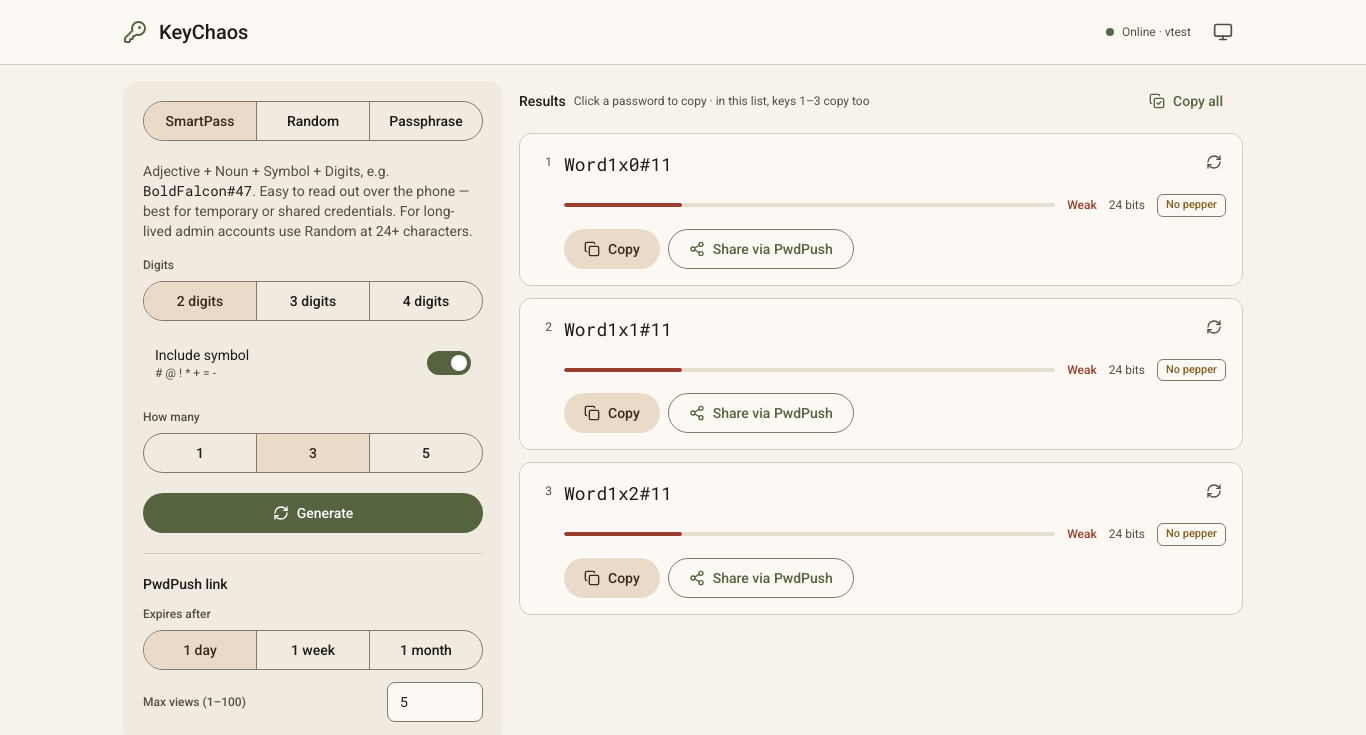
App — PwdPush links are never lost or mismatched › a push failing while options are stale does not replace the list
The image size is (1366, 735).
Expected: the number of list items is 3, [519,133,1243,286]; [519,298,1243,450]; [519,462,1243,614]
Click the radio button labelled "Random".
click(312, 121)  # box [256,102,369,140]
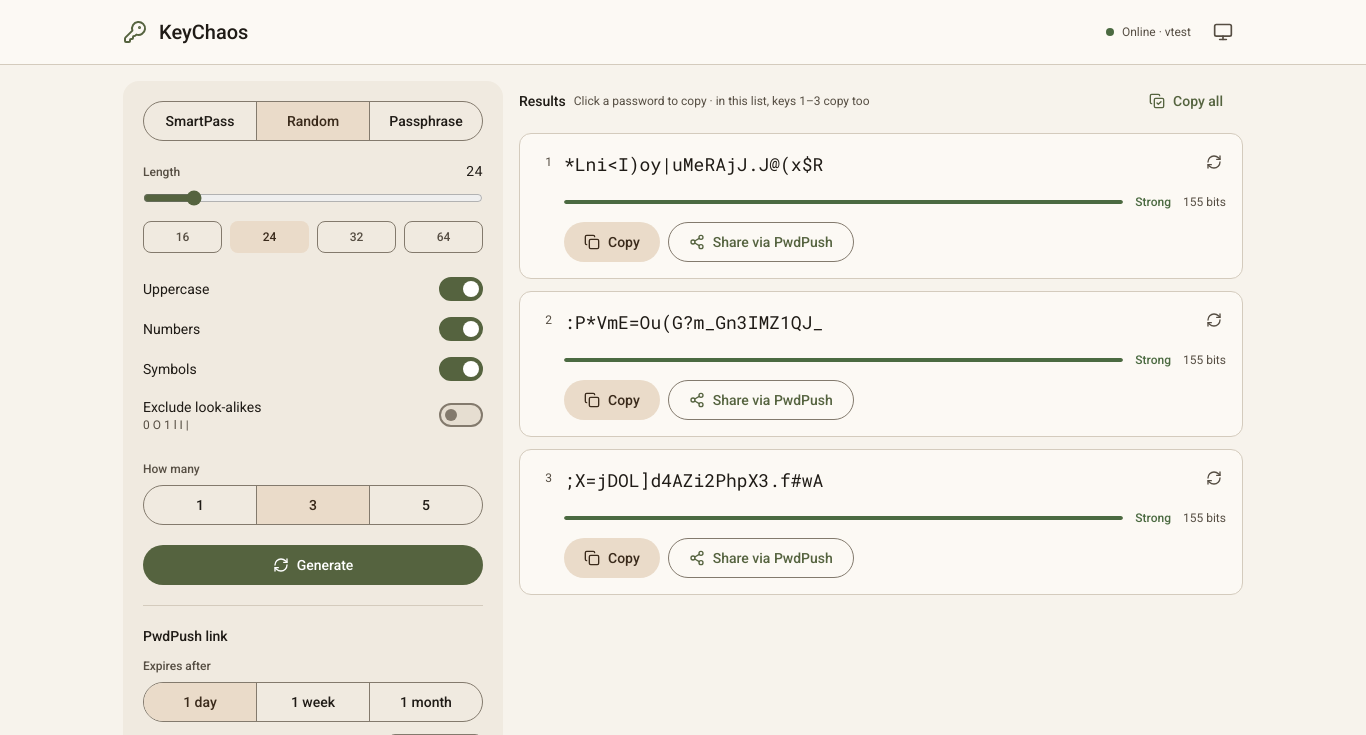
Click the button with aria-label "Share via PwdPush, password 1".
click(761, 242)  # box [668,222,854,262]
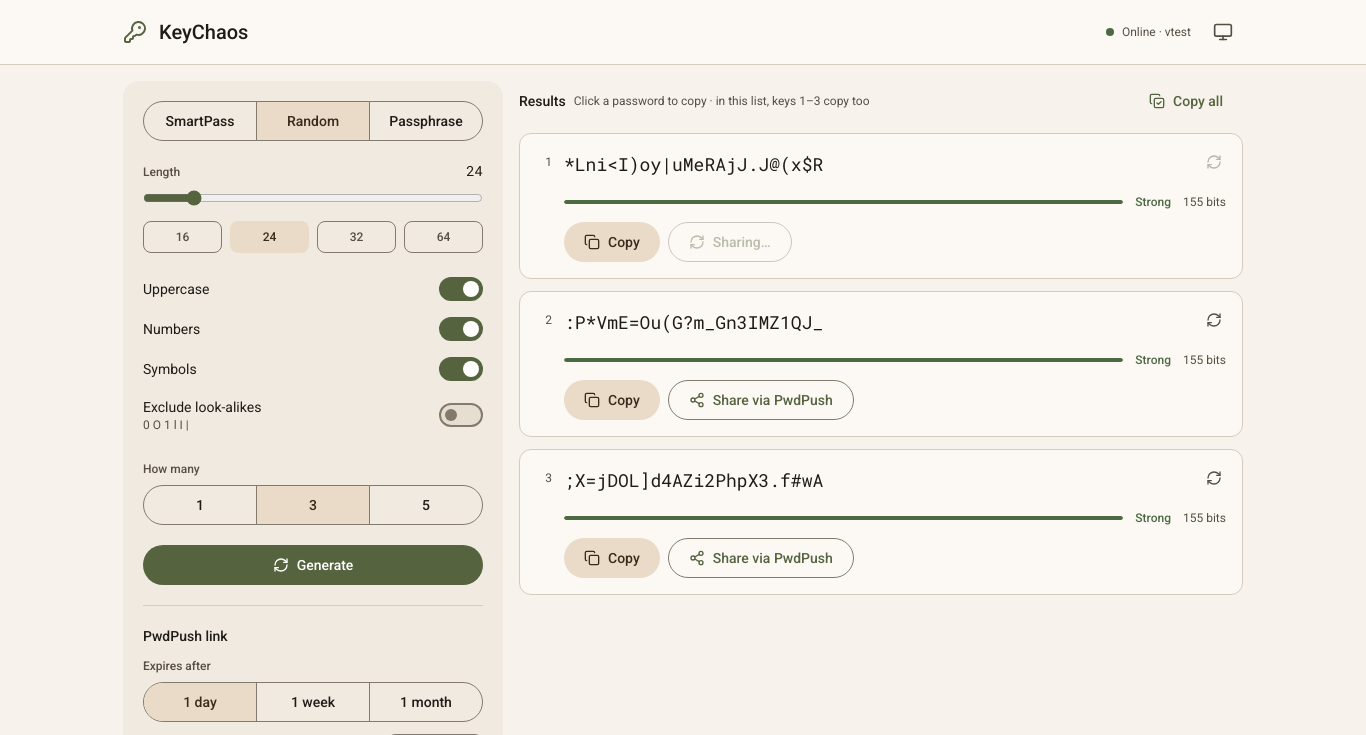
Set the slider labelled "Length" to "40" at [237, 198], box [143,190,483,206]
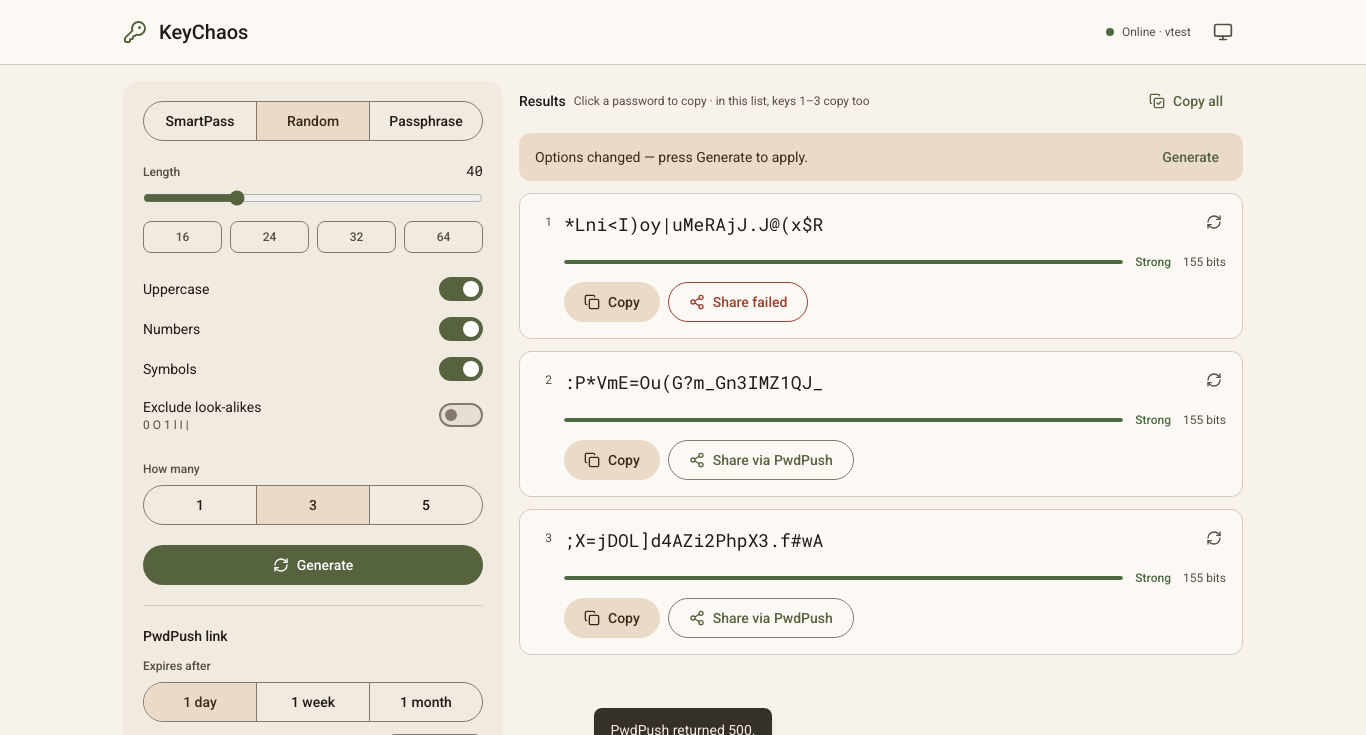
Expected: the button with aria-label "Share failed, password 1" is shown, [668,282,808,322]
Expected: the text "Options changed — press Generate to apply." is shown, [535,149,808,165]
